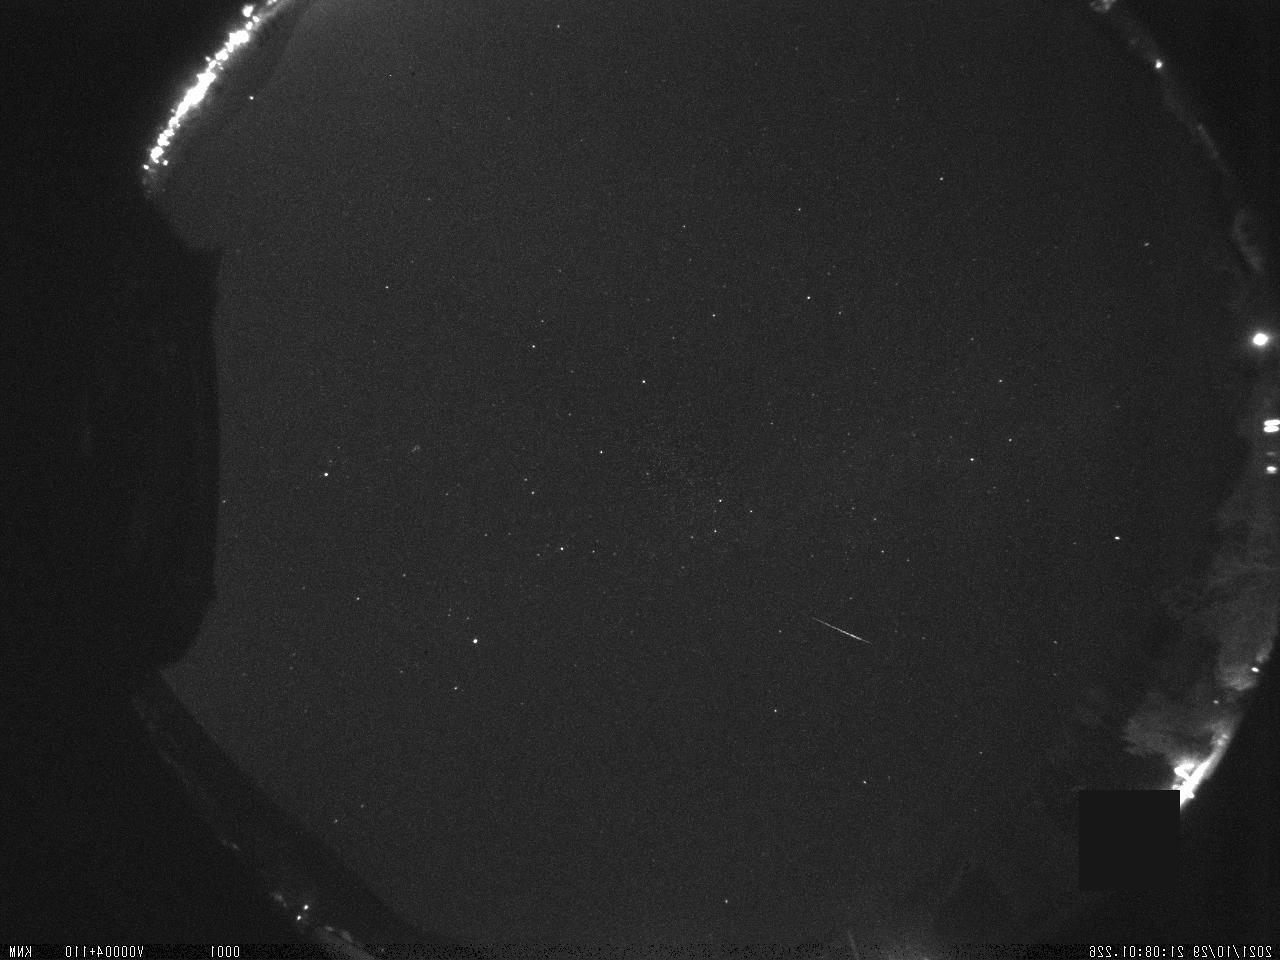meteor: (805, 608, 871, 646)
